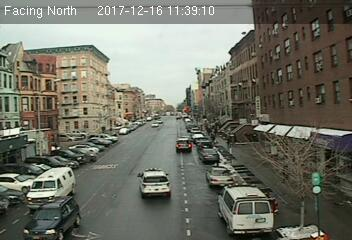car: (21, 194, 81, 239), (207, 165, 236, 188), (199, 147, 218, 163), (175, 136, 193, 152)
police: (217, 181, 272, 234), (136, 167, 173, 201)
truck: (27, 166, 73, 209)
